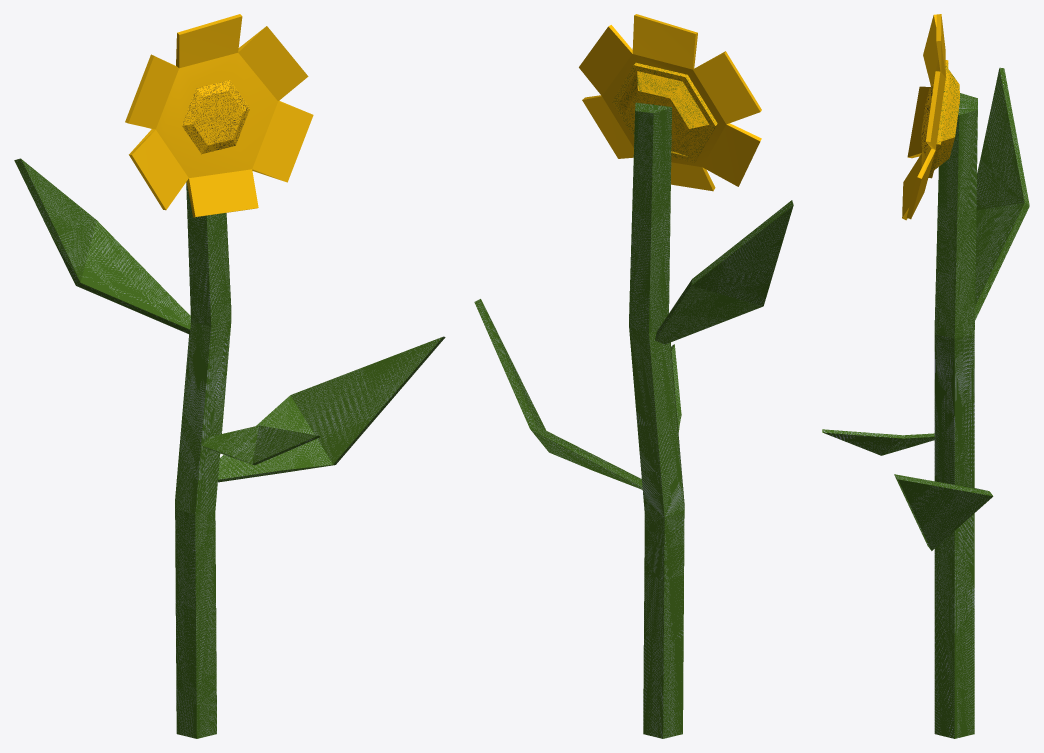
The model's file is Flower_Sunflower_02.fbx.
3 renders of one model, left to right at view 1: azimuth 30°, elevation 25°; view 2: azimuth 150°, elevation 25°; view 3: azimuth 270°, elevation 25°, orthographic.
Visible parts, largest first — view 1: Model; view 2: Model; view 3: Model.
Boxes of the visible parts, x1,y1,x2,y2 form: Model: (14,14,445,738); Model: (474,14,793,738); Model: (822,14,1029,738).
Bounding box in the file's own units: 137 × 246 × 65.65.
